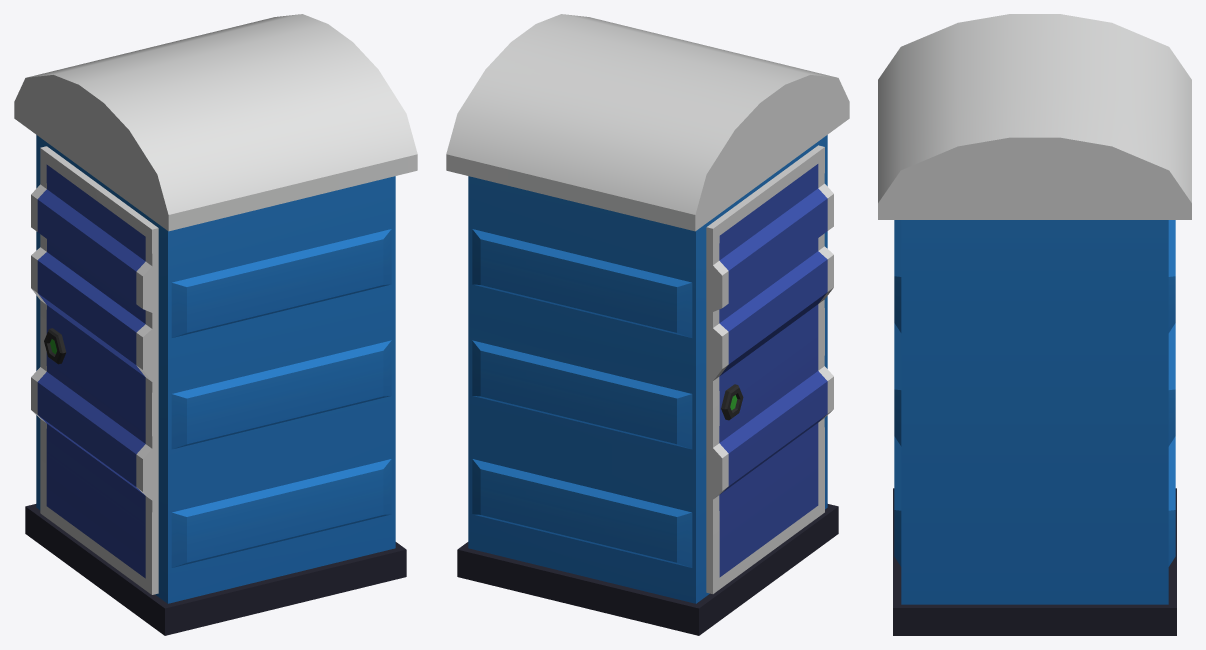
Rendered from Toilet_C_1 .fbx.
3 views of the same model, side by side, from view 1: azimuth 30°, elevation 25°; view 2: azimuth 150°, elevation 25°; view 3: azimuth 270°, elevation 25° (orthographic).
Visible parts, largest first — view 1: Toilet_C_1, ToiletDoor_C_1; view 2: Toilet_C_1, ToiletDoor_C_1; view 3: Toilet_C_1.
Part boxes in pixels (box(x1,y1,x2,y2)): Toilet_C_1: box(14, 14, 417, 635); ToiletDoor_C_1: box(31, 146, 158, 594); Toilet_C_1: box(446, 14, 849, 635); ToiletDoor_C_1: box(706, 145, 833, 593); Toilet_C_1: box(878, 14, 1191, 635).
Bounding box in the file's own units: 1.12 × 2.07 × 1.18.
